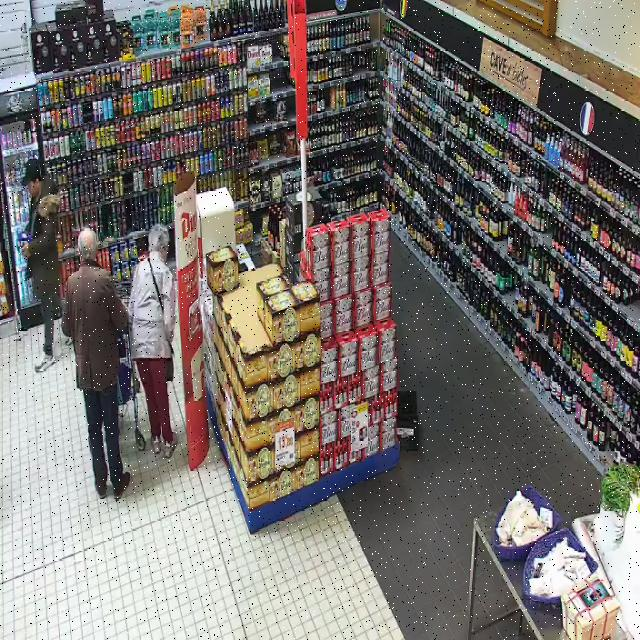article: (17, 233, 33, 253)
hands: (21, 242, 31, 257)
person: (62, 228, 130, 498), (128, 226, 176, 458), (21, 161, 60, 371)
